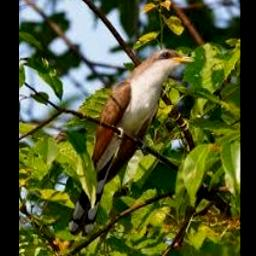Cuckoo: (68, 48, 195, 237)
